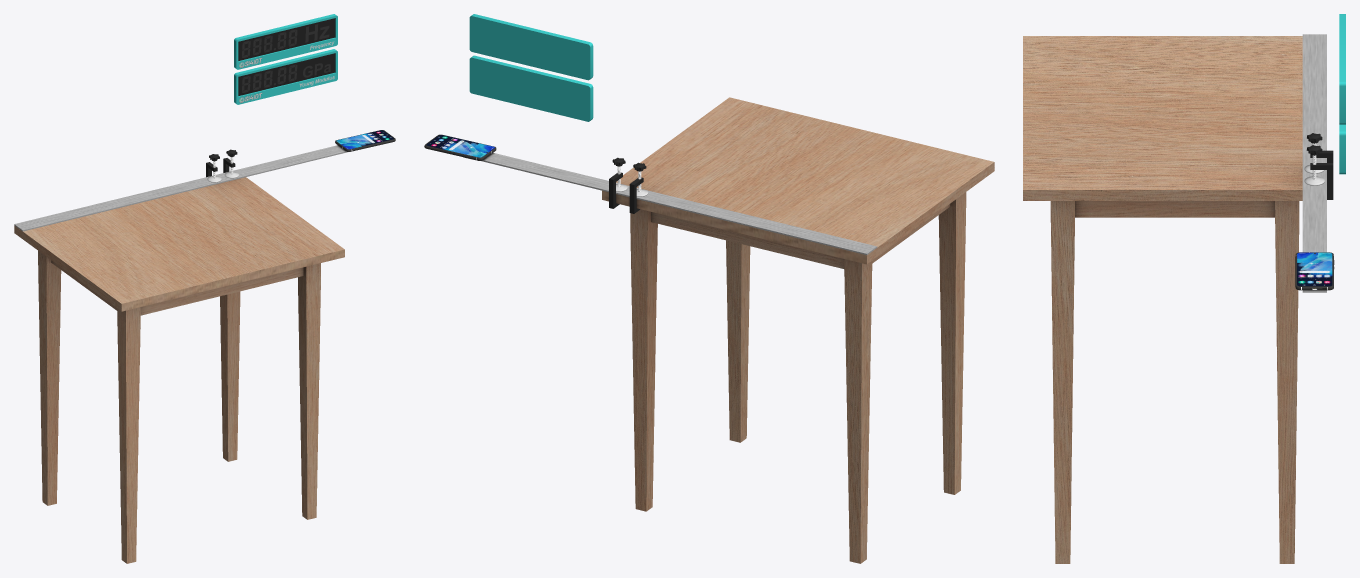
The model's file is Aluminum_bar_60cm_40cm.glb.
The picture shows the model from 3 angles, left to right: view 1: azimuth 30°, elevation 25°; view 2: azimuth 150°, elevation 25°; view 3: azimuth 270°, elevation 25°; orthographic projection. The views are drawn at different scales.
Parts seen in each view (by area): view 1: MESA, PASAMANO-ALUMINIO_60_40, CAJA DISPLAY GPa, CAJA DISPLAY Hz, SMARTPHONE_60_40; view 2: MESA, CAJA DISPLAY GPa, CAJA DISPLAY Hz, PASAMANO-ALUMINIO_60_40, SMARTPHONE_60_40; view 3: MESA, PASAMANO-ALUMINIO_60_40, SMARTPHONE_60_40, CAJA DISPLAY Hz.
Boxes of the visible parts, bbox=[...] form: MESA: bbox=[14, 177, 344, 563]; PASAMANO-ALUMINIO_60_40: bbox=[14, 145, 347, 231]; CAJA DISPLAY GPa: bbox=[234, 49, 337, 104]; CAJA DISPLAY Hz: bbox=[234, 14, 337, 69]; SMARTPHONE_60_40: bbox=[335, 130, 395, 151]; MESA: bbox=[602, 97, 994, 563]; CAJA DISPLAY GPa: bbox=[469, 55, 593, 121]; CAJA DISPLAY Hz: bbox=[469, 14, 593, 80]; PASAMANO-ALUMINIO_60_40: bbox=[481, 152, 877, 254]; SMARTPHONE_60_40: bbox=[424, 134, 496, 160]; MESA: bbox=[1023, 36, 1302, 563]; PASAMANO-ALUMINIO_60_40: bbox=[1302, 34, 1326, 292]; SMARTPHONE_60_40: bbox=[1295, 252, 1334, 290]; CAJA DISPLAY Hz: bbox=[1339, 14, 1345, 124].
Size of the model in its own units: 1 by 1.03 by 0.531.
Materials: 94 (5 with a texture image).
